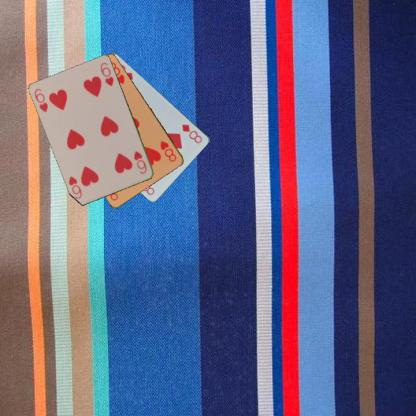6h: (32, 86, 50, 114), (131, 149, 148, 175)
8d: (180, 121, 203, 144)
8h: (158, 138, 178, 163)
